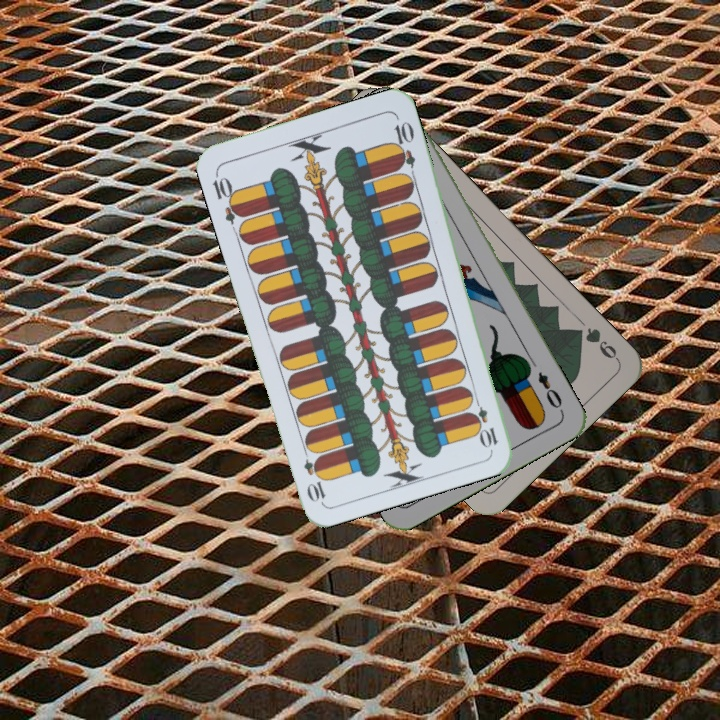E10: (208, 168, 246, 226), (468, 392, 501, 450)
EO: (533, 367, 566, 416)
G9: (569, 323, 622, 363)
